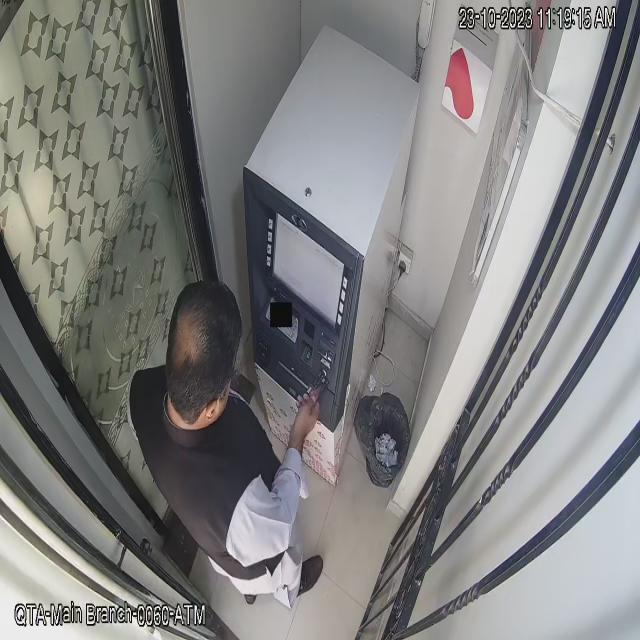atm-card: (303, 360, 335, 413)
